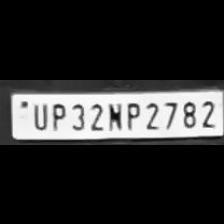2: (197, 96, 217, 128), (86, 99, 104, 131), (142, 97, 160, 129)
3: (66, 98, 86, 130)
7: (158, 97, 178, 128)
8: (178, 97, 196, 128)
N: (105, 98, 123, 130)
P: (123, 98, 141, 130), (47, 100, 66, 130)
U: (29, 100, 48, 130)
